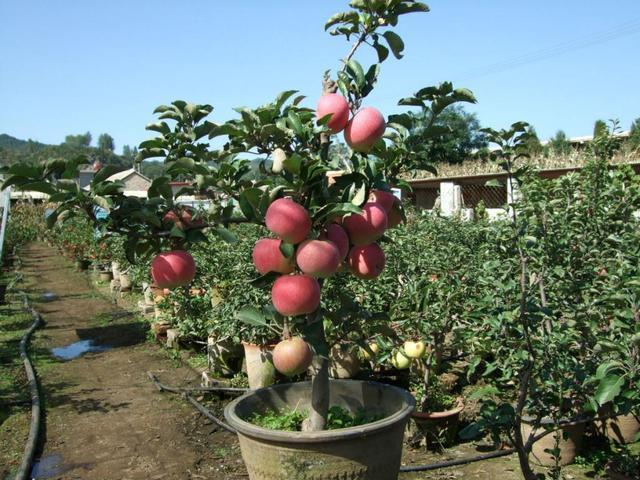apple: (265, 198, 311, 241), (273, 275, 319, 316), (344, 106, 385, 151), (297, 239, 339, 279), (148, 251, 194, 287), (254, 239, 296, 276), (344, 206, 385, 243), (273, 338, 312, 375), (315, 92, 349, 132), (350, 243, 386, 280), (371, 189, 402, 228)
